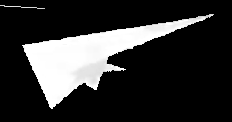Plane: (9, 8, 222, 112)
